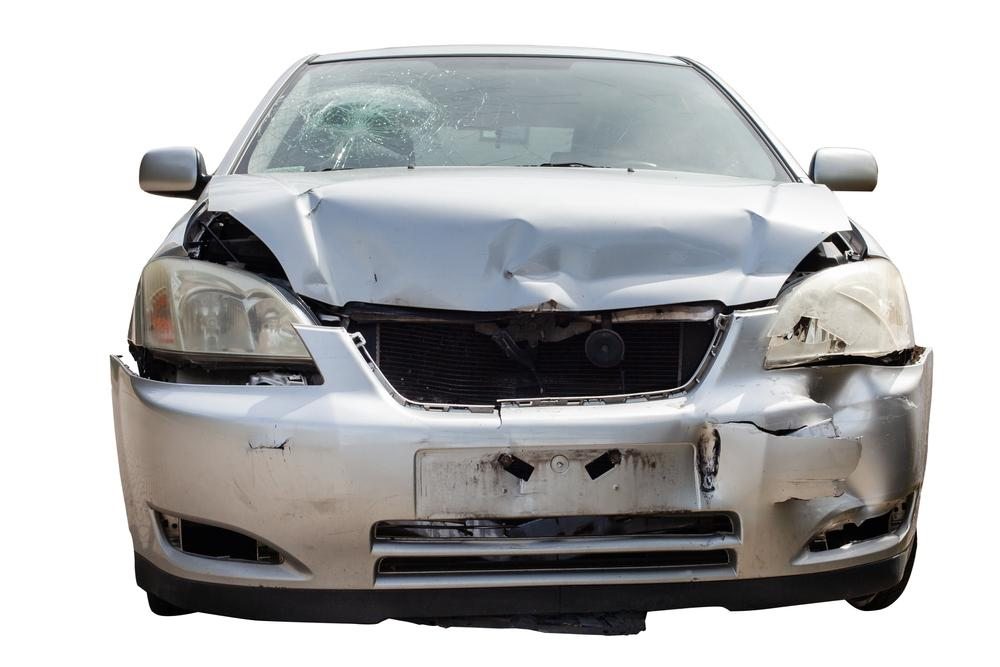crack: (721, 419, 810, 438), (777, 494, 846, 508), (494, 403, 505, 429)
dent: (292, 191, 821, 311), (803, 365, 886, 509), (693, 423, 723, 511)
glass shatter: (236, 55, 798, 183)
lamp broken: (766, 257, 915, 369)
